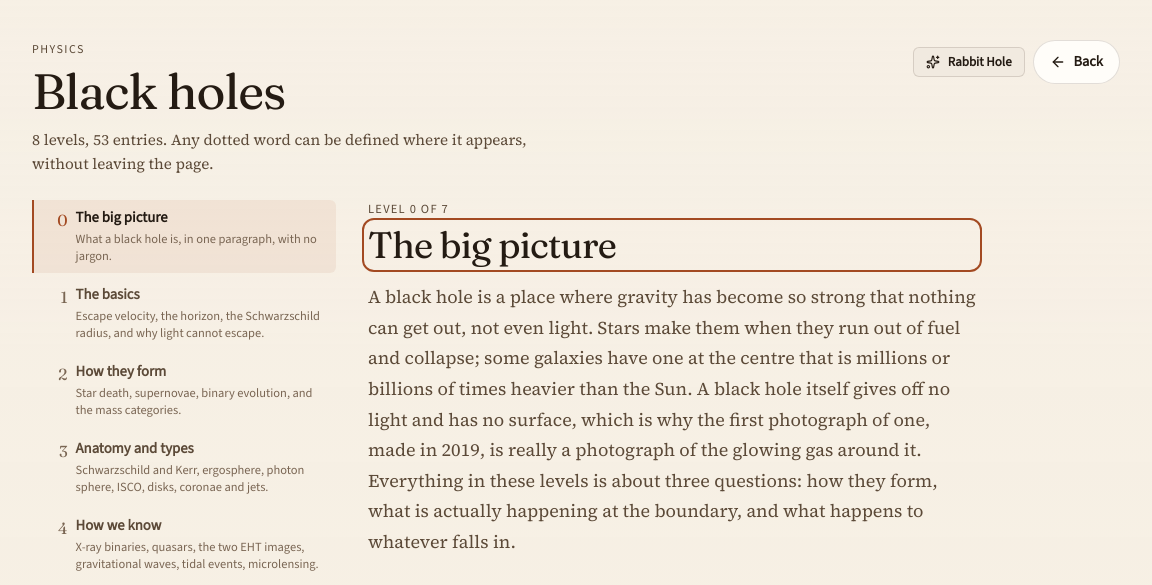
Scenario: the level reader › jumps straight to a level instead of scrolling through the ones before it
Click the button "The basics" at (184, 314), box left=32, top=277, right=336, bottom=350
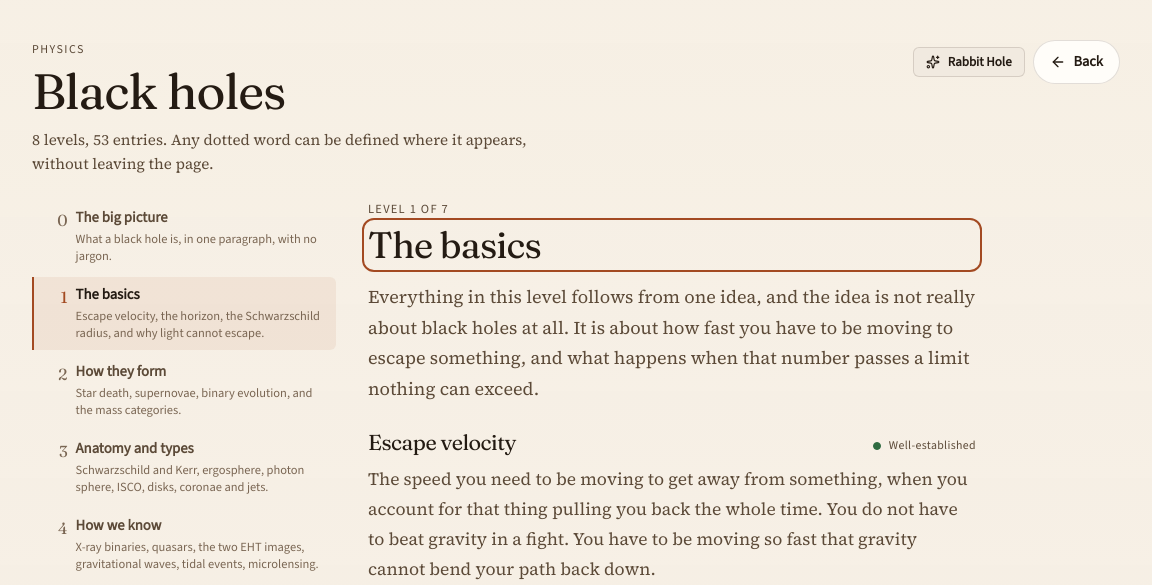
expect the heading "The basics" is shown: met, box left=368, top=222, right=541, bottom=267
expect the text "Level 1 of 7" is shown: met, box left=368, top=201, right=449, bottom=217
